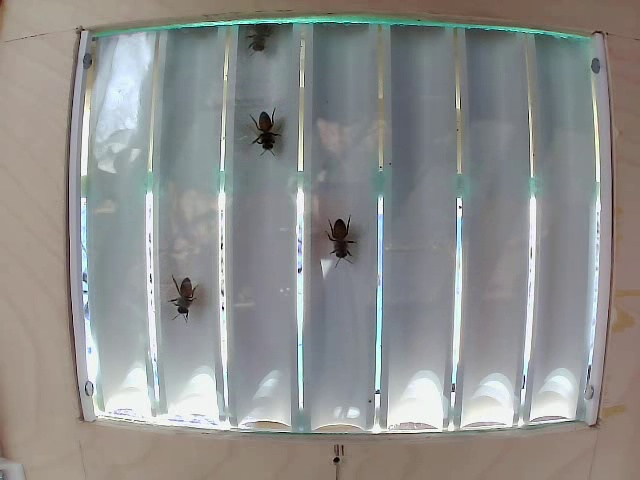bee: (318, 211, 369, 277), (161, 274, 217, 331), (244, 19, 293, 77), (242, 110, 289, 153)
